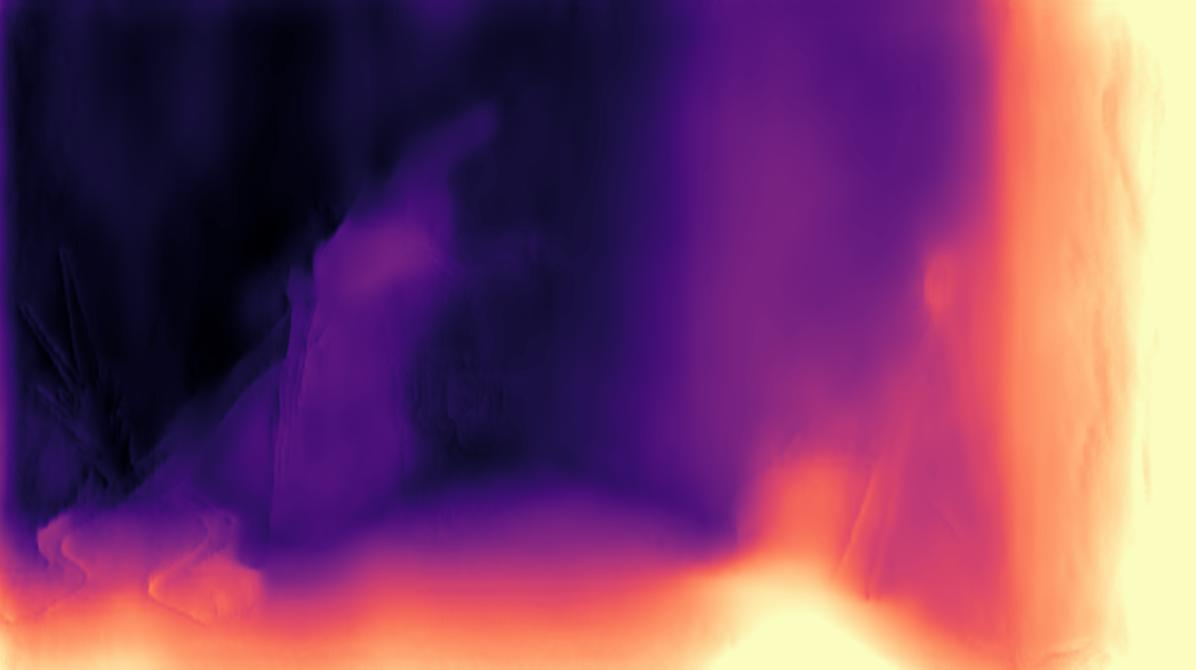painting: (688, 1, 1012, 658)
